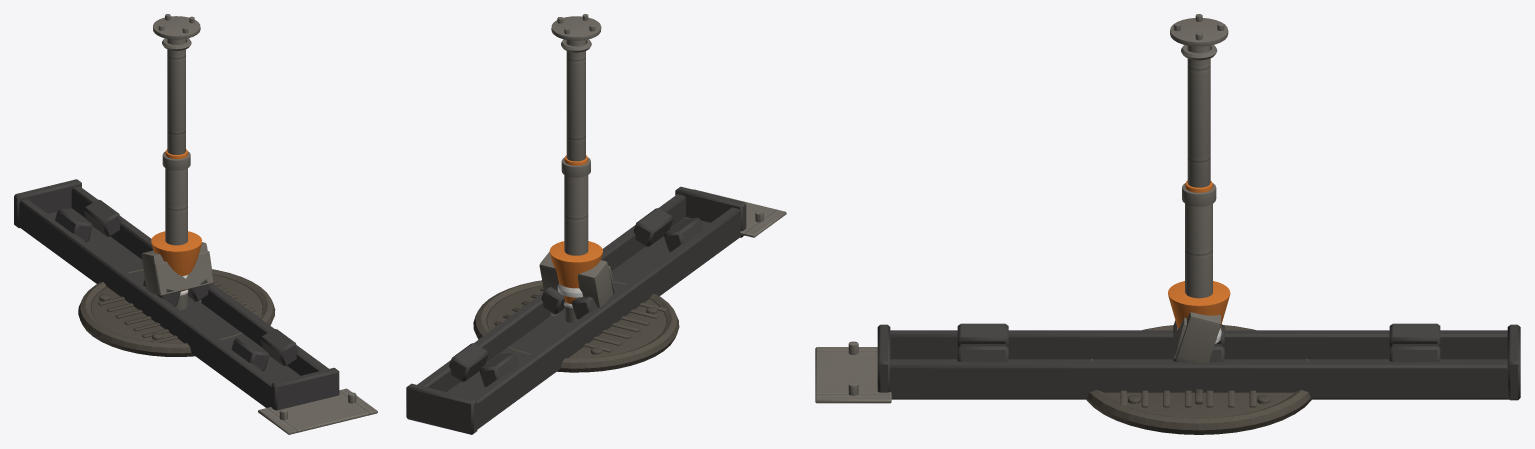
File: site_kit.glb
3 views of the same model, side by side, from view 1: azimuth 30°, elevation 25°; view 2: azimuth 150°, elevation 25°; view 3: azimuth 270°, elevation 25° (orthographic). The views are drawn at different scales.
Parts seen in each view (by area): view 1: cradle.001, cover.001, mast.001, cradle_guide, flood.001, cone_body; view 2: cradle.001, cover.001, mast.001, flood.001, cone_body, cradle_guide; view 3: cradle.001, cover.001, mast.001, cradle_guide, flood.001, cone_body.
Part boxes in pixels (left/top/right/bottom): cradle.001: left=14, top=179, right=339, bottom=410; cover.001: left=78, top=269, right=275, bottom=356; mast.001: left=153, top=14, right=201, bottom=310; cradle_guide: left=258, top=388, right=377, bottom=434; flood.001: left=141, top=242, right=213, bottom=295; cone_body: left=151, top=231, right=202, bottom=291; cradle.001: left=406, top=186, right=746, bottom=434; cover.001: left=473, top=280, right=679, bottom=372; mast.001: left=550, top=14, right=601, bottom=323; flood.001: left=539, top=251, right=614, bottom=307; cone_body: left=549, top=241, right=602, bottom=303; cradle_guide: left=693, top=189, right=786, bottom=237; cradle.001: left=877, top=323, right=1520, bottom=400; cover.001: left=1086, top=325, right=1311, bottom=434; mast.001: left=1170, top=14, right=1228, bottom=298; cradle_guide: left=815, top=341, right=891, bottom=403; flood.001: left=1173, top=312, right=1220, bottom=363; cone_body: left=1168, top=281, right=1230, bottom=329.
Size of the model in its own units: 0.95 by 1.58 by 2.78.
Materials: 5 (2 with a texture image).
